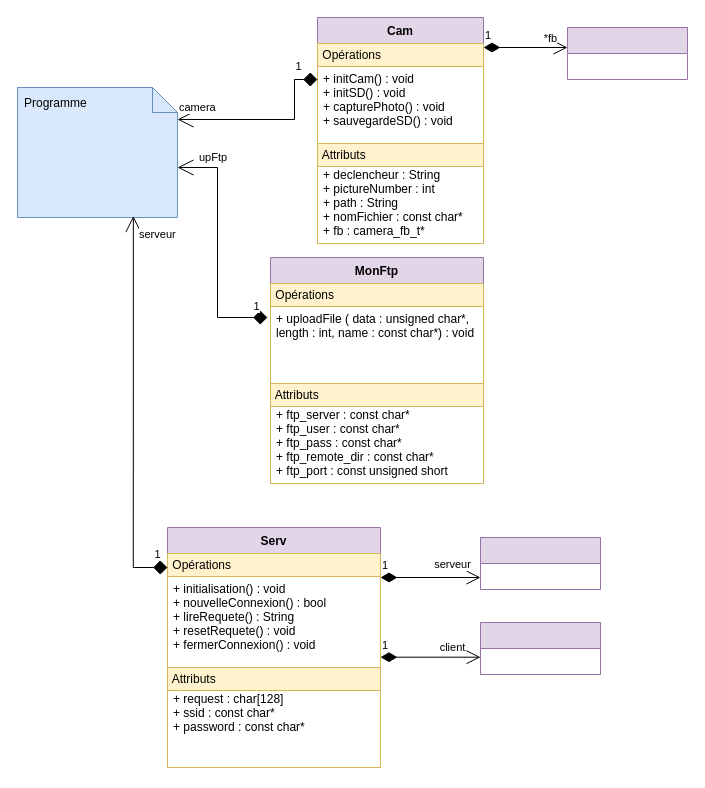
The diagram is 705 pixels wide and 788 high, and some of its shapes have lost their labels. The centre of each missing label's shape, as x and y in pixels:
camera_fb_t: (627,53)
setup() : void loop() : void: (97,152)
WifiClient: (540,648)
WifiServer: (540,563)
